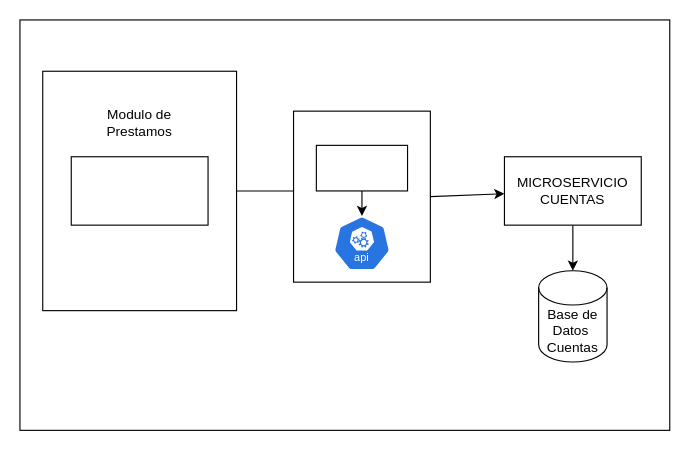
This 690x450 diagram has some shape labels left out. Each missing label, with the box of its shape:
CIRCUIT BREAK: (315, 144, 408, 191)
Servicio Aprobacion: (70, 156, 208, 225)
